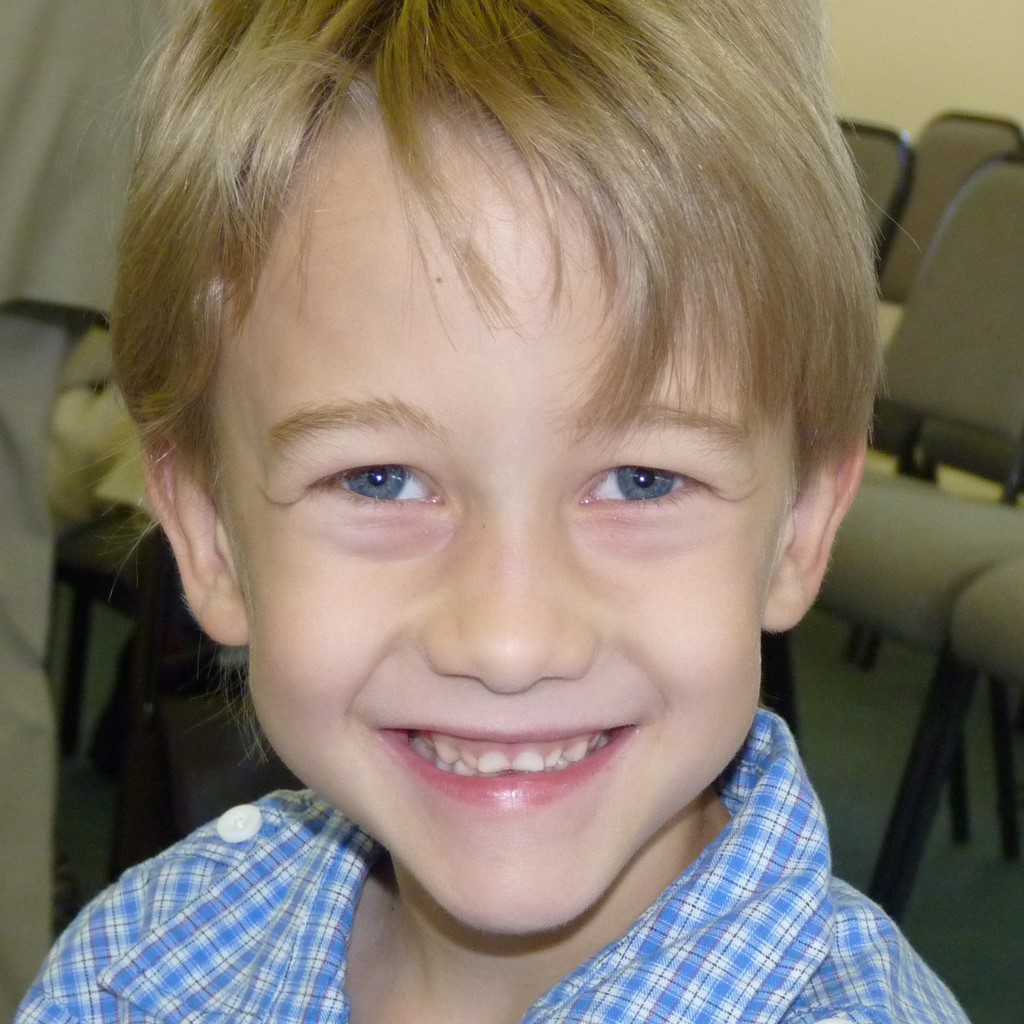sin_mascara: (240, 137, 776, 918)
